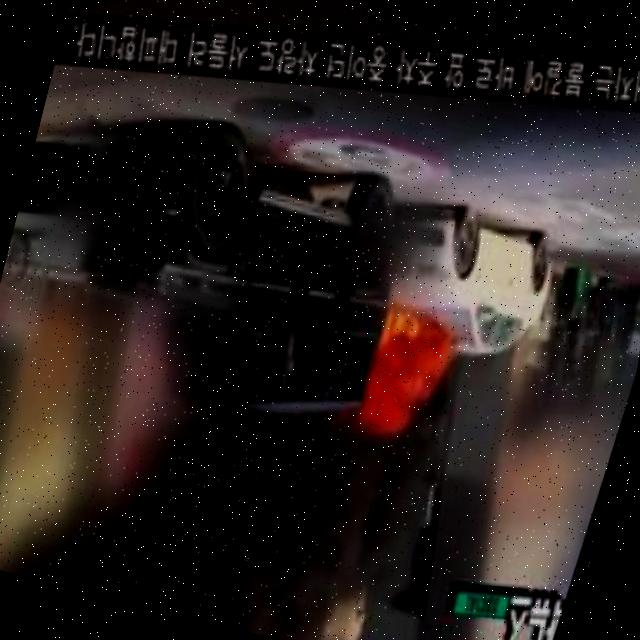fire: (348, 302, 461, 448)
